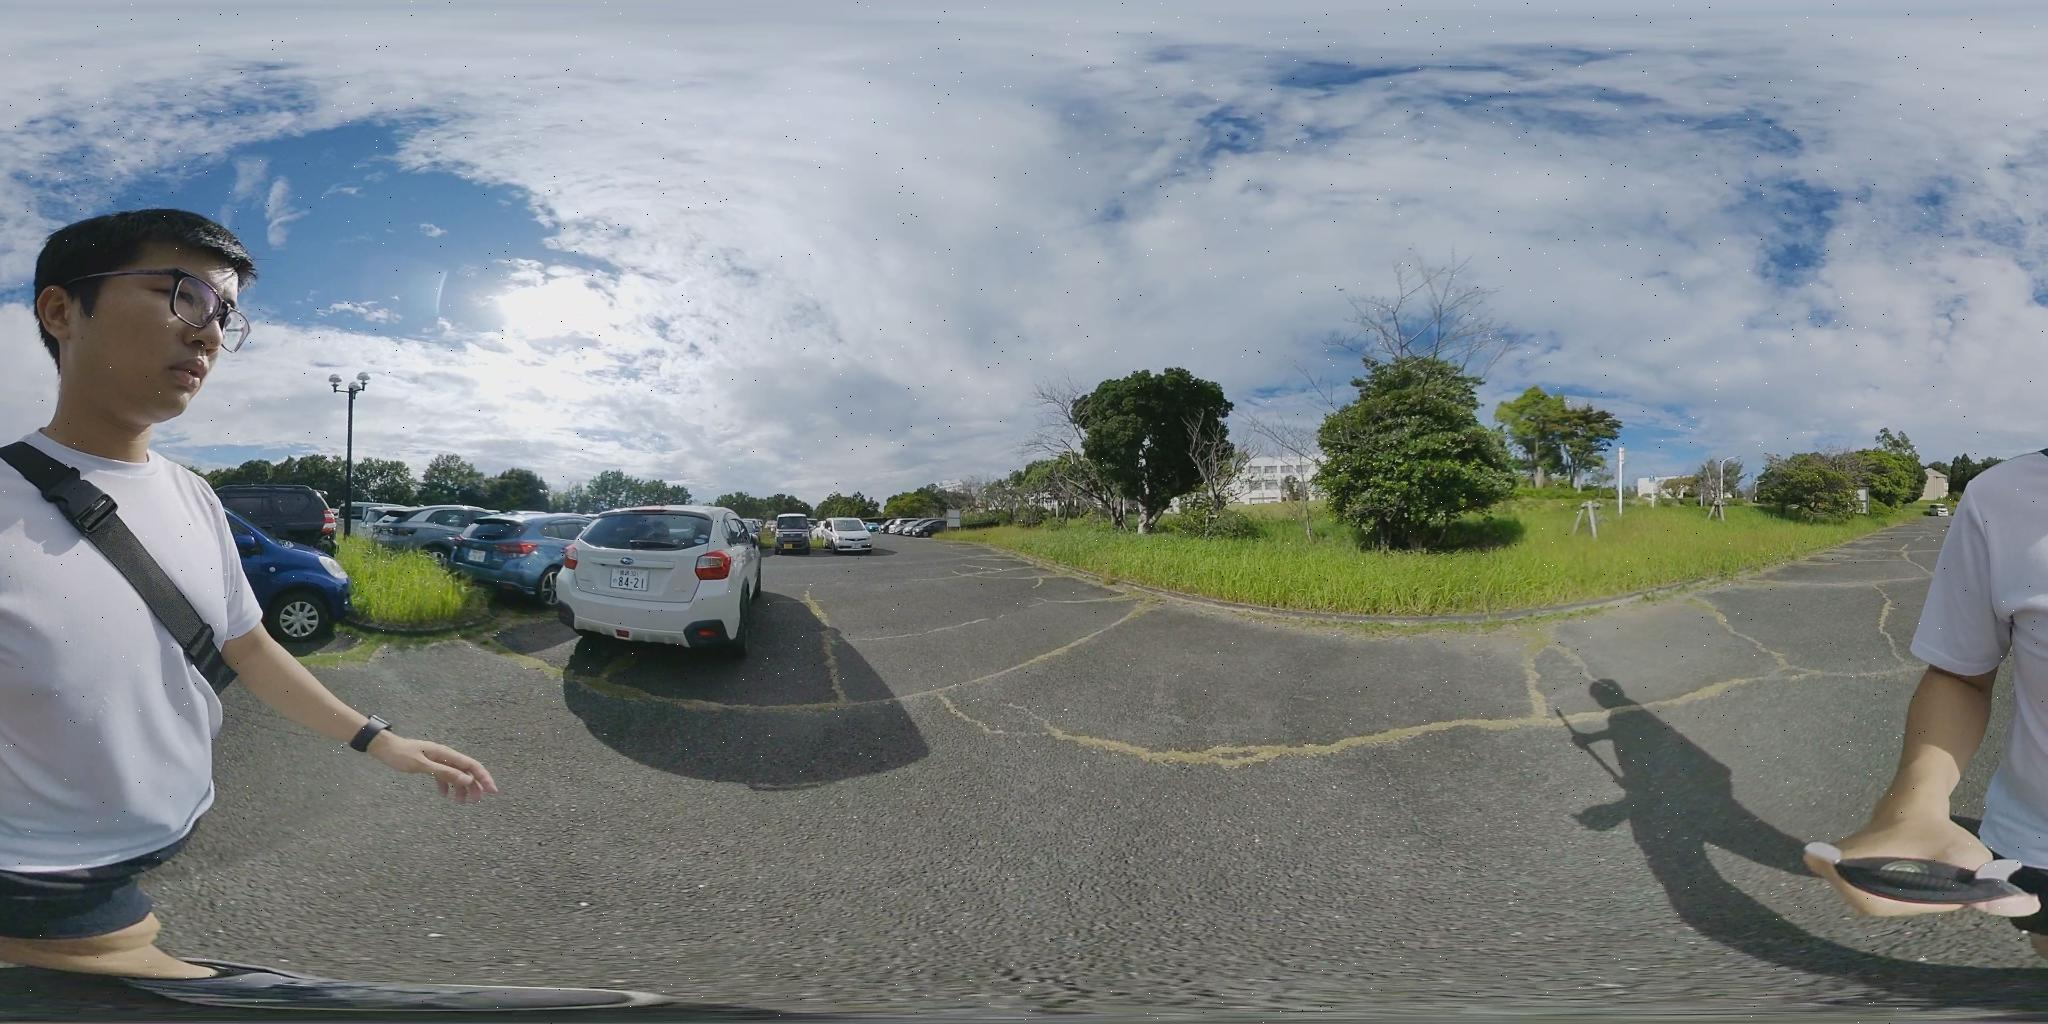car: (554, 511, 775, 656), (217, 508, 353, 650), (436, 515, 597, 602), (221, 486, 341, 550), (370, 507, 513, 555), (825, 520, 879, 552), (768, 517, 814, 551), (879, 517, 936, 534)
